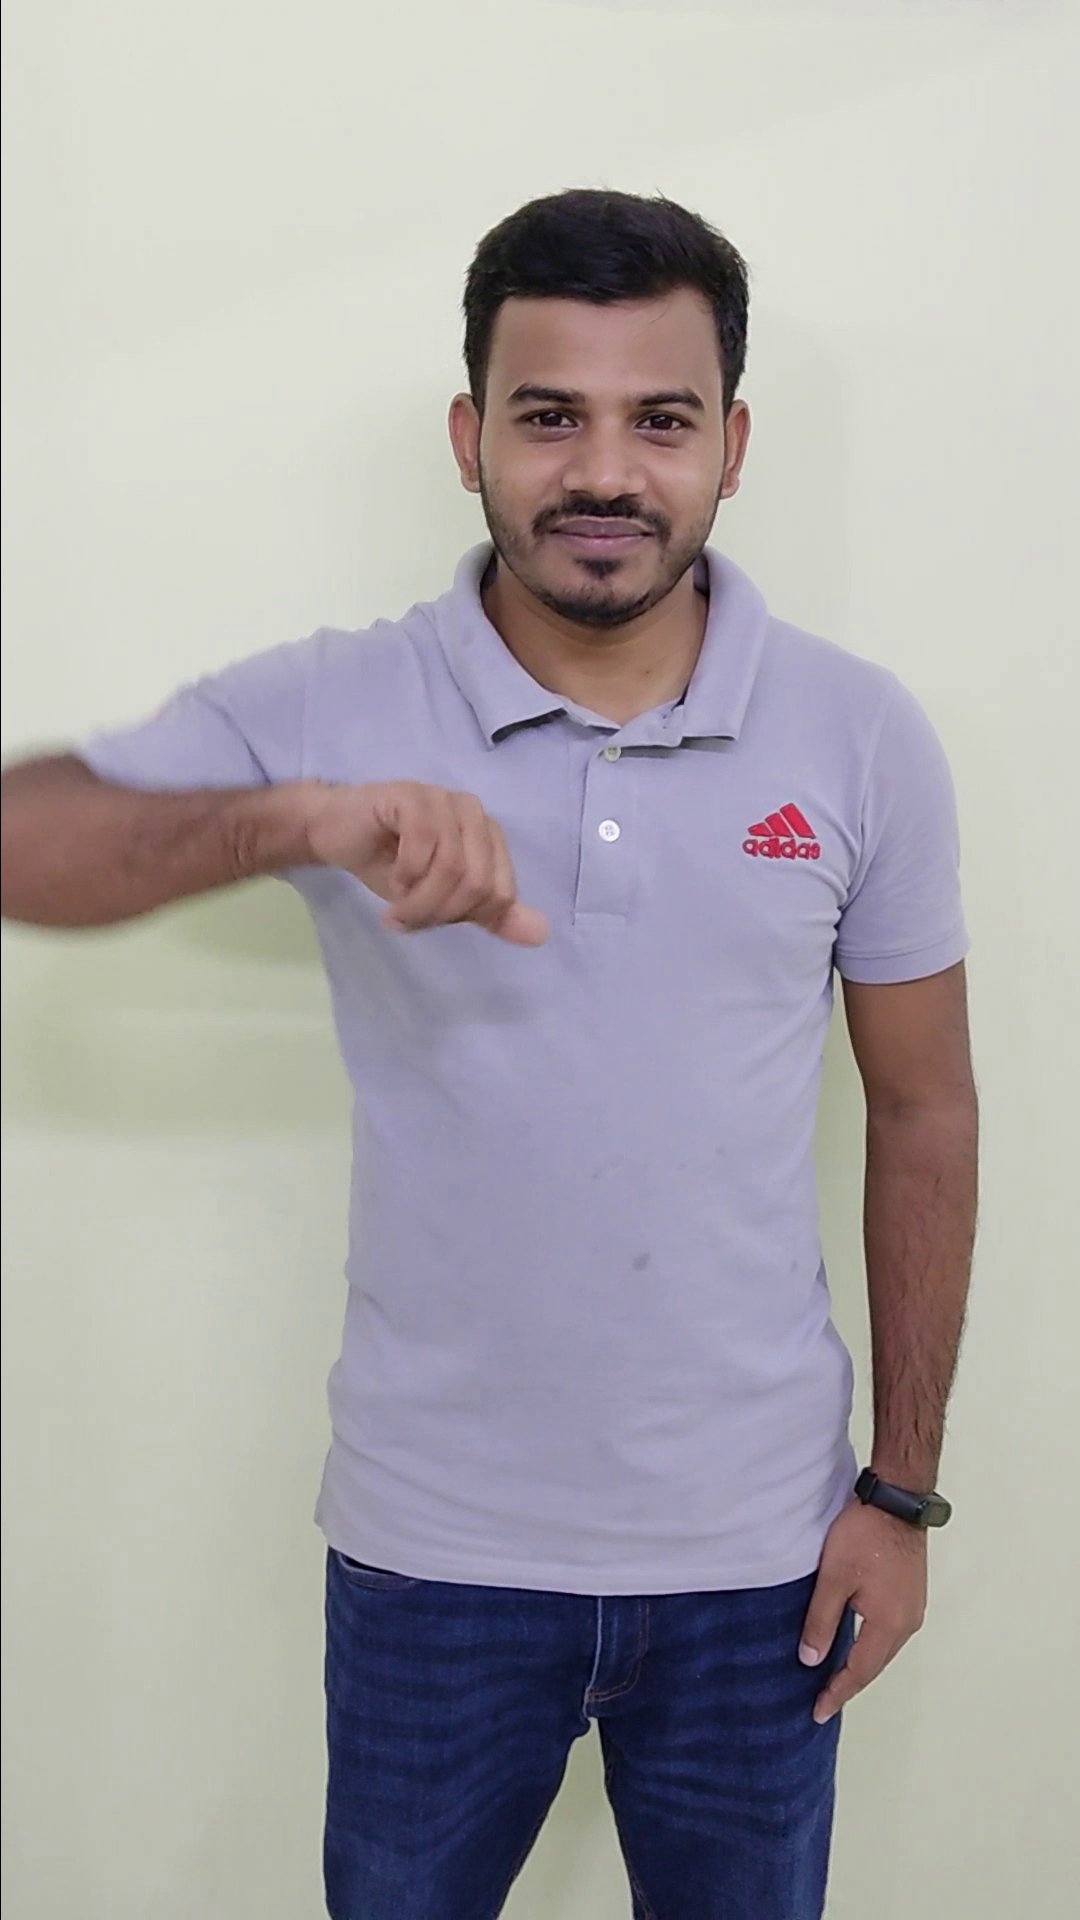Dislike: (280, 761, 566, 978)
None: (783, 1443, 963, 1738)
